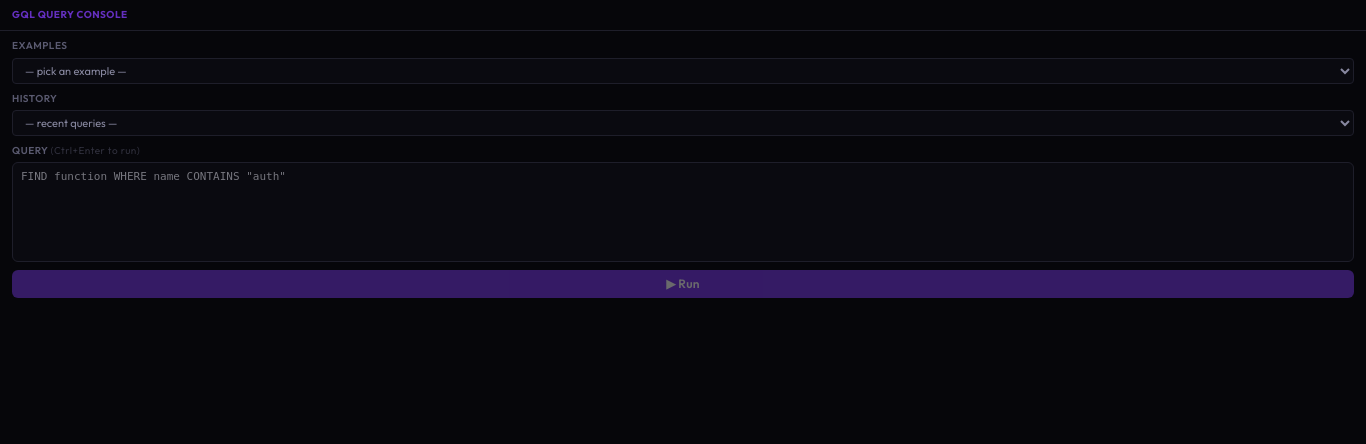
Test: QueryPanel › renders traversal results with edge metadata
This screenshot has width=1366, height=444.
In the text box with placeholder "FIND function WHERE name CONTAINS \"auth\"": [683, 212] box [12,162,1354,262], type "TRAVERSE CALLS FROM \"handleLogin\" DEPTH 1"
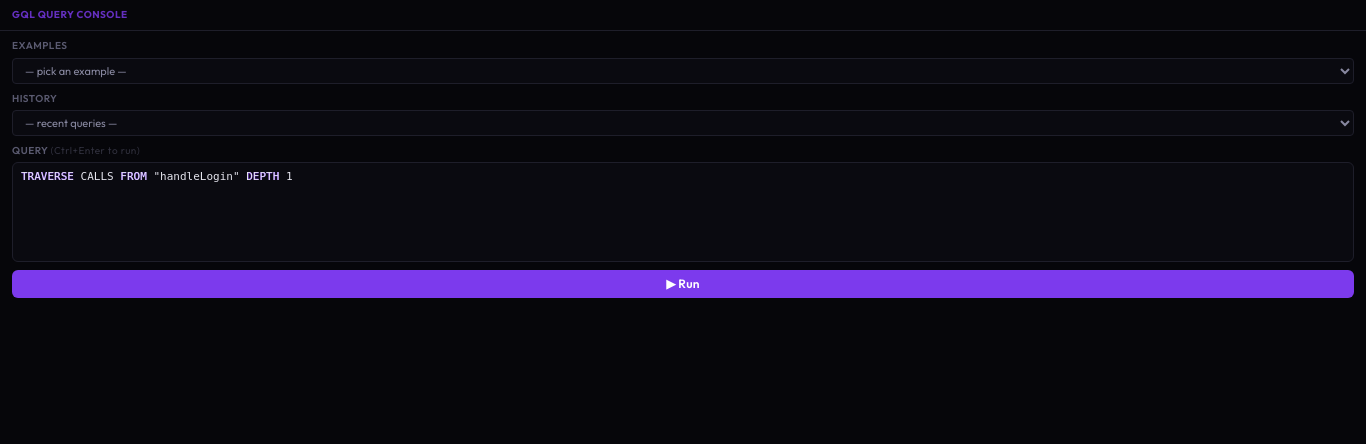
Click the button "▶ Run": [683, 284] box [12,270,1354,298]
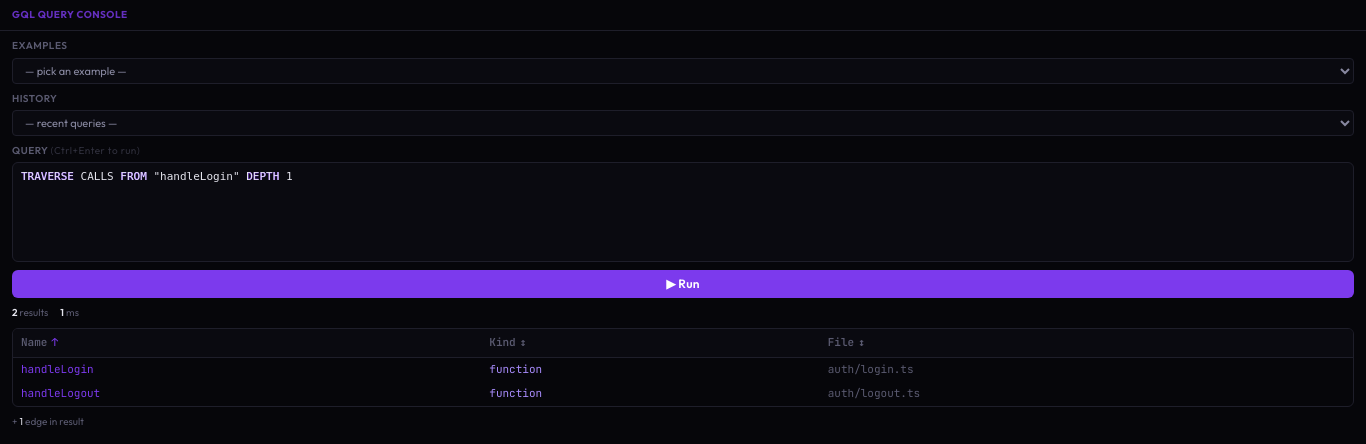
Expected: the text "handleLogout" is shown, [13,382,481,406]
